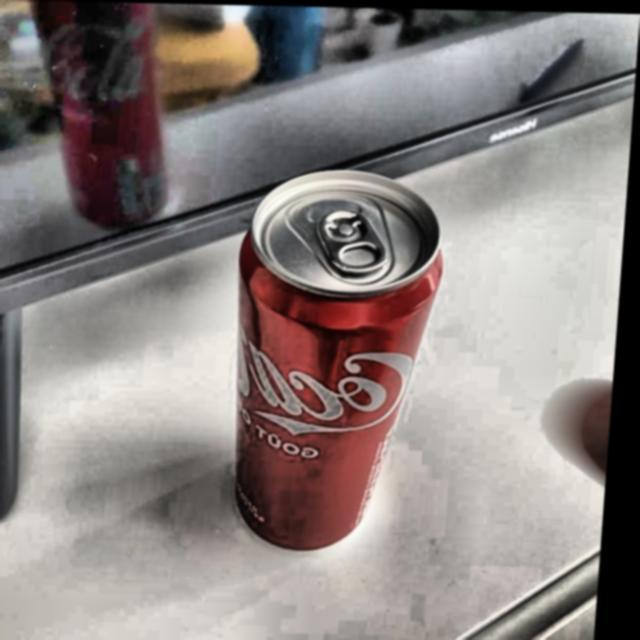can: (166, 121, 502, 578)
